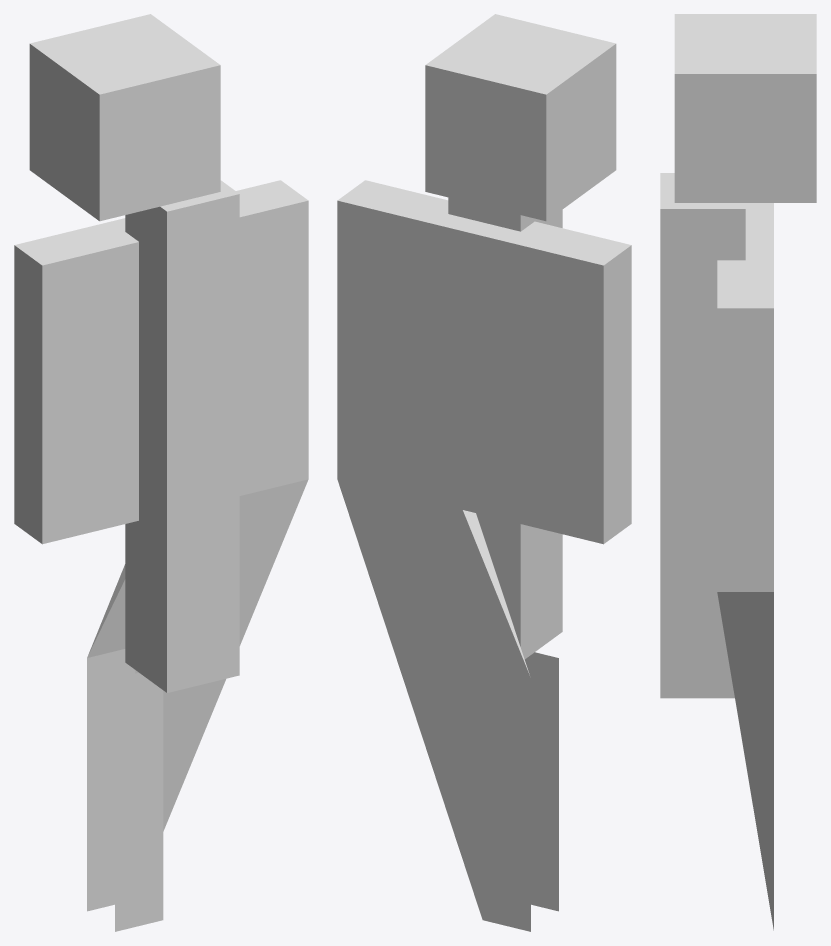
Rendered from skeleton.obj.
3 renders of one model, left to right at view 1: azimuth 30°, elevation 25°; view 2: azimuth 150°, elevation 25°; view 3: azimuth 270°, elevation 25°, orthographic.
Size of the model in its own units: 1.1 by 3.4 by 0.55.
